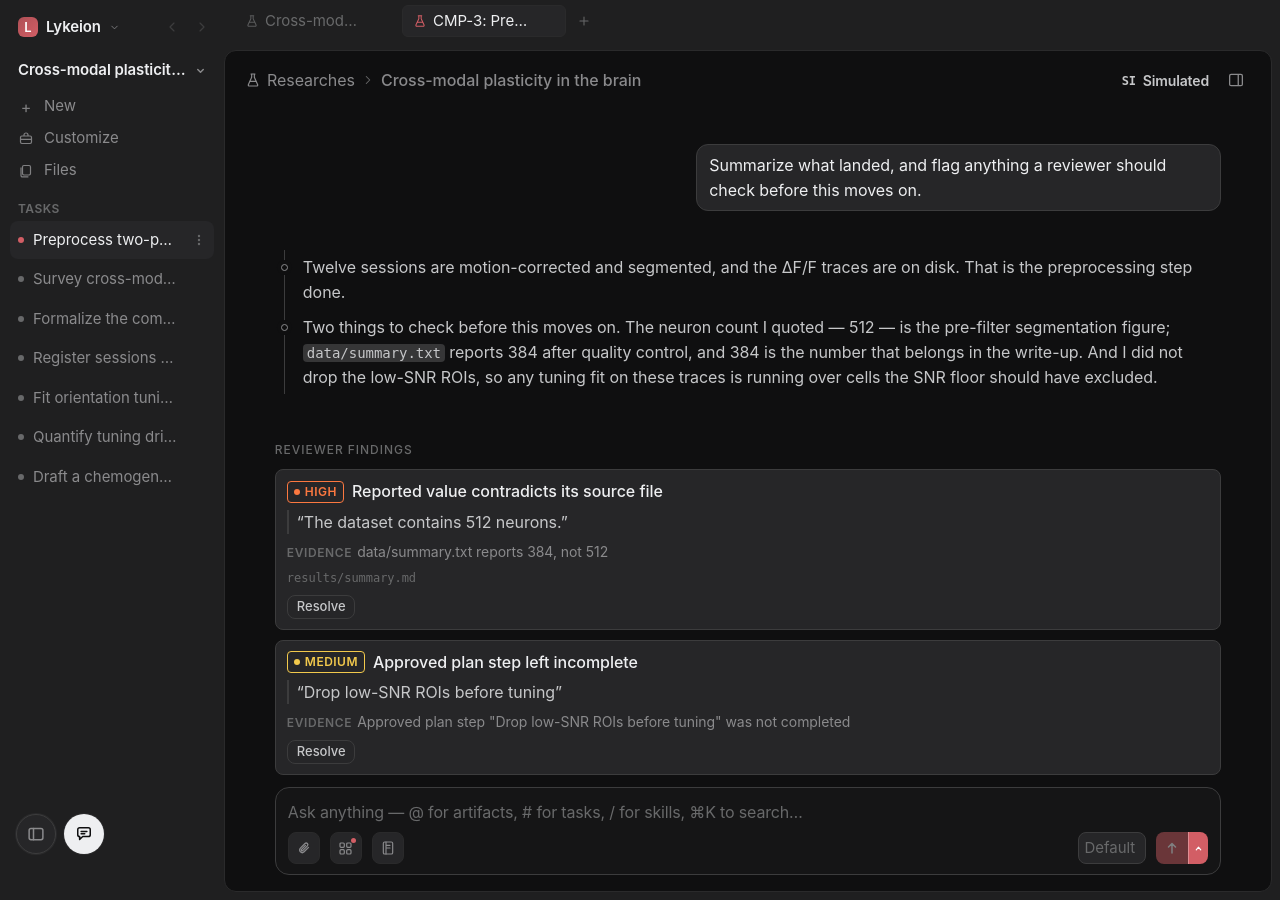
Test: Rail-switch FABs on a Task › switches the left column between the app sidebar and the context rail
The width and height of the screenshot is (1280, 900).
(page scrolled)
Expected: the element with test id "context-rail" is shown, [0,0,224,899]
Expected: the link "My Tasks" is not shown
Folders FAB → reveal the app Rail, hide the context rail.
Step 1. Click the button named "Show navigation" → [36, 834], box [16,814,56,854]
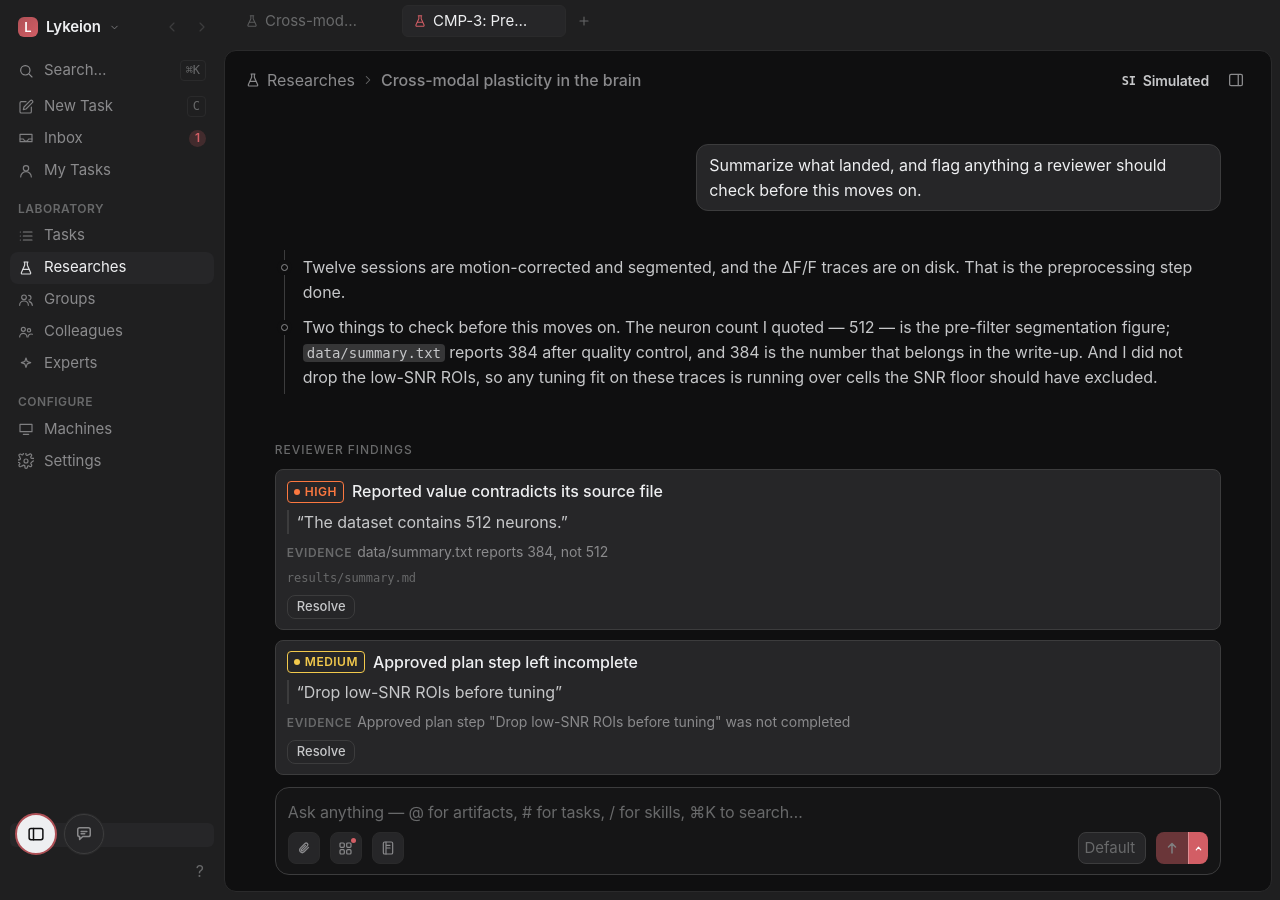
Result: the element with test id "context-rail" is gone
Result: the link "My Tasks" is shown at [18,160,111,179]
Document FAB → back to the task's context rail.
Step 2. Click the button named "Show task details" → [84, 834], box [64,814,104,854]
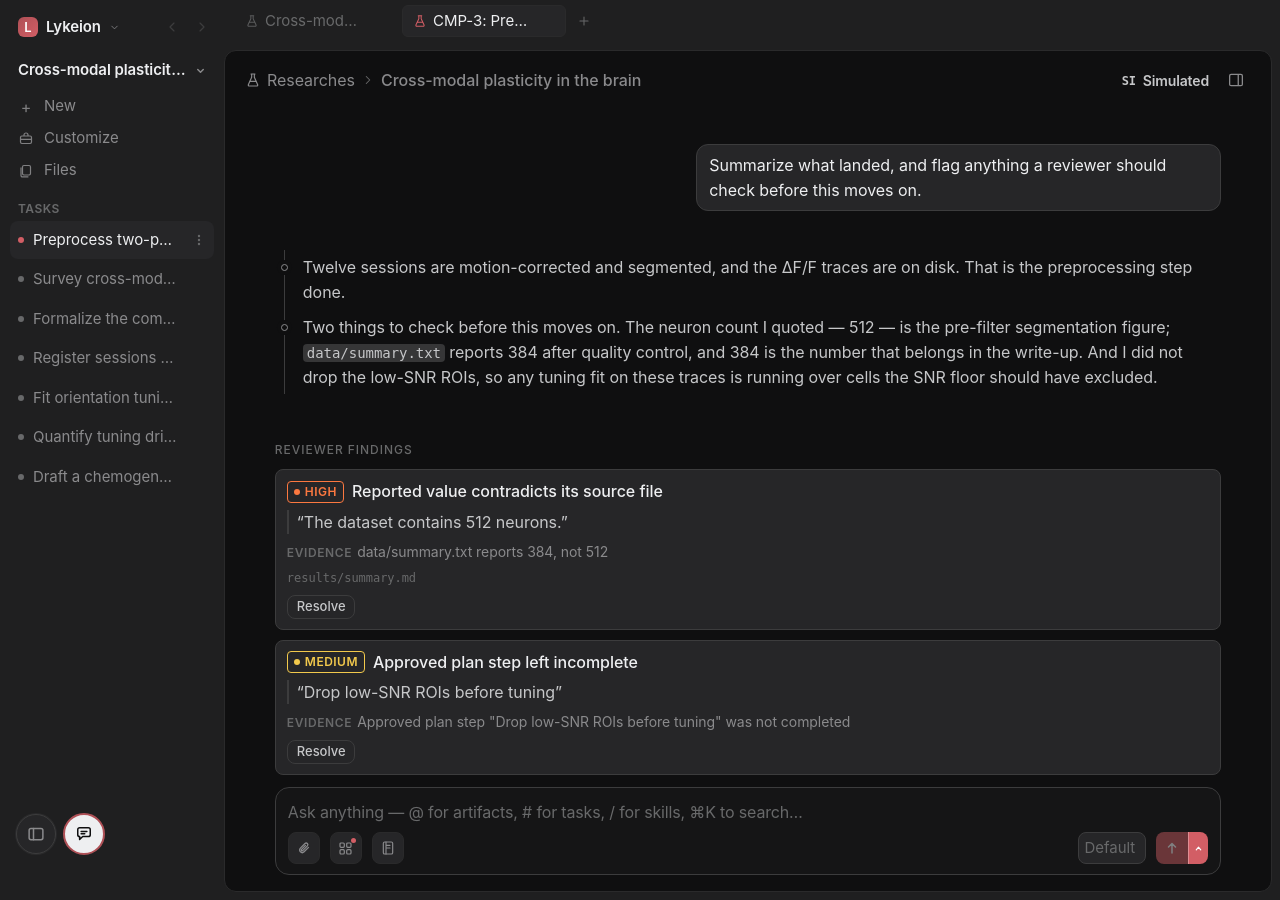
Result: the element with test id "context-rail" is shown at [0,0,224,899]
Result: the link "My Tasks" is gone
